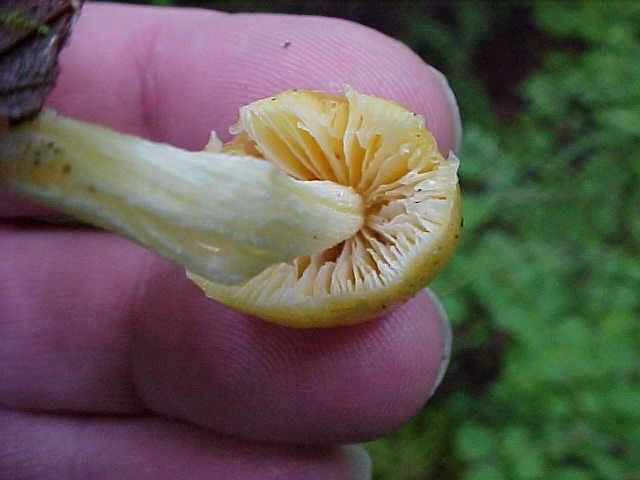Edible Mushroom: (1, 84, 463, 329)
